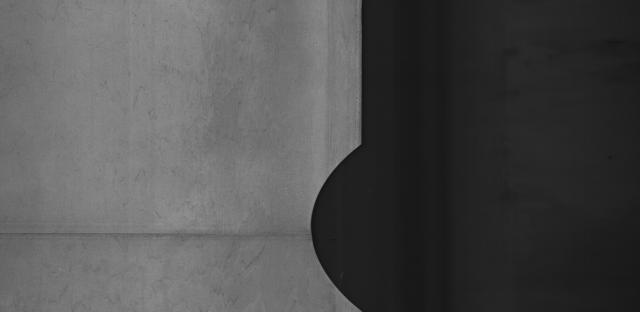crescent_gap: (291, 135, 408, 312)
welding_line: (4, 220, 340, 248)
